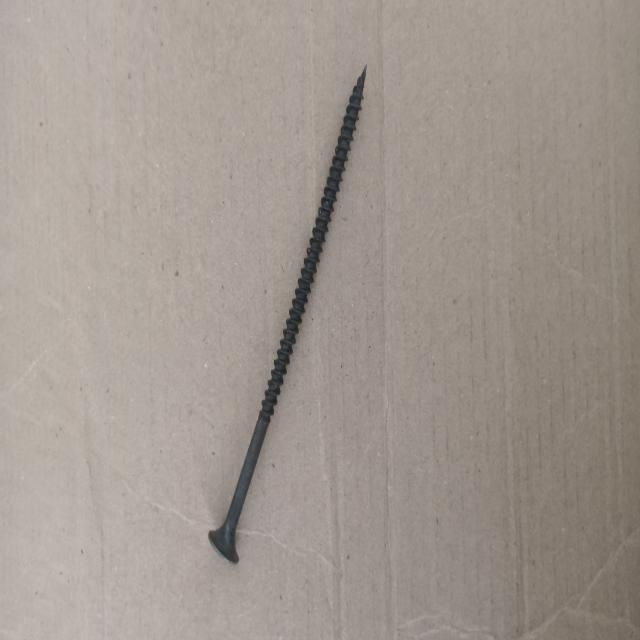screw: (208, 67, 363, 566)
